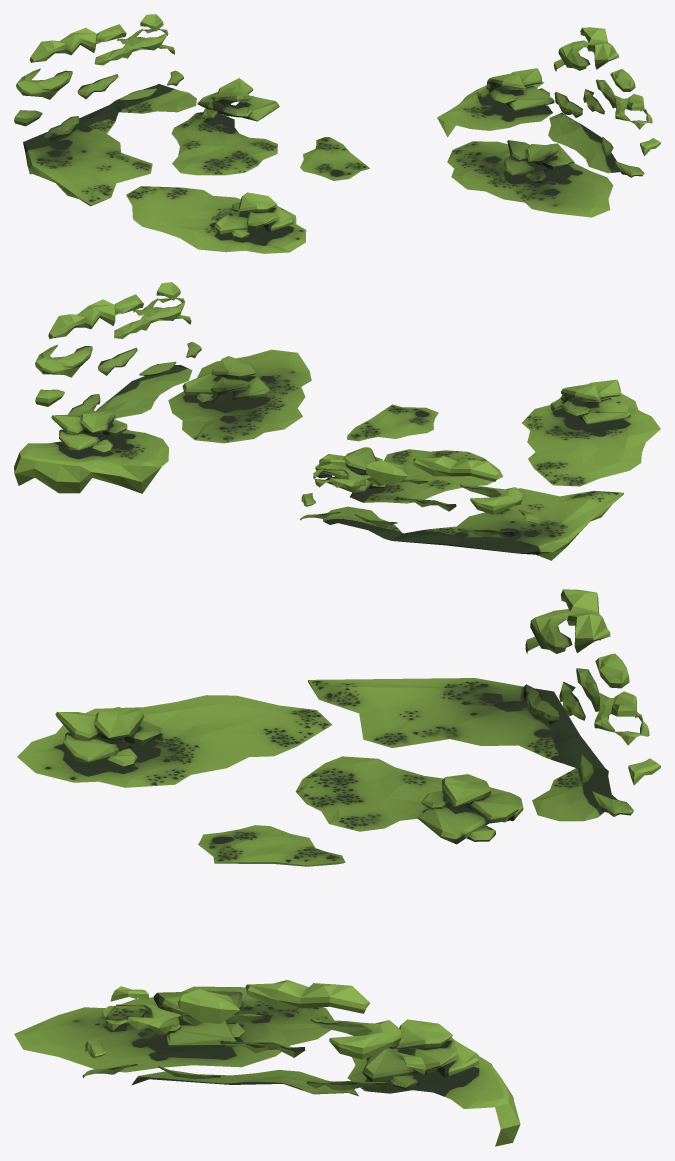
The model's file is Plant_01.FBX.
3 views of the same model, one above another, from view 1: azimuth 30°, elevation 25°; view 2: azimuth 150°, elevation 25°; view 3: azimuth 270°, elevation 25° (orthographic). The views are drawn at different scales.
Visible parts, largest first — view 1: Plant_01; view 2: Plant_01; view 3: Plant_01.
Part boxes in pixels (x1,y1,x2,y2): Plant_01: (14, 14, 660, 253); Plant_01: (14, 282, 660, 560); Plant_01: (14, 589, 660, 1146).
Bounding box in the file's own units: 38.99 × 10.41 × 27.27.
